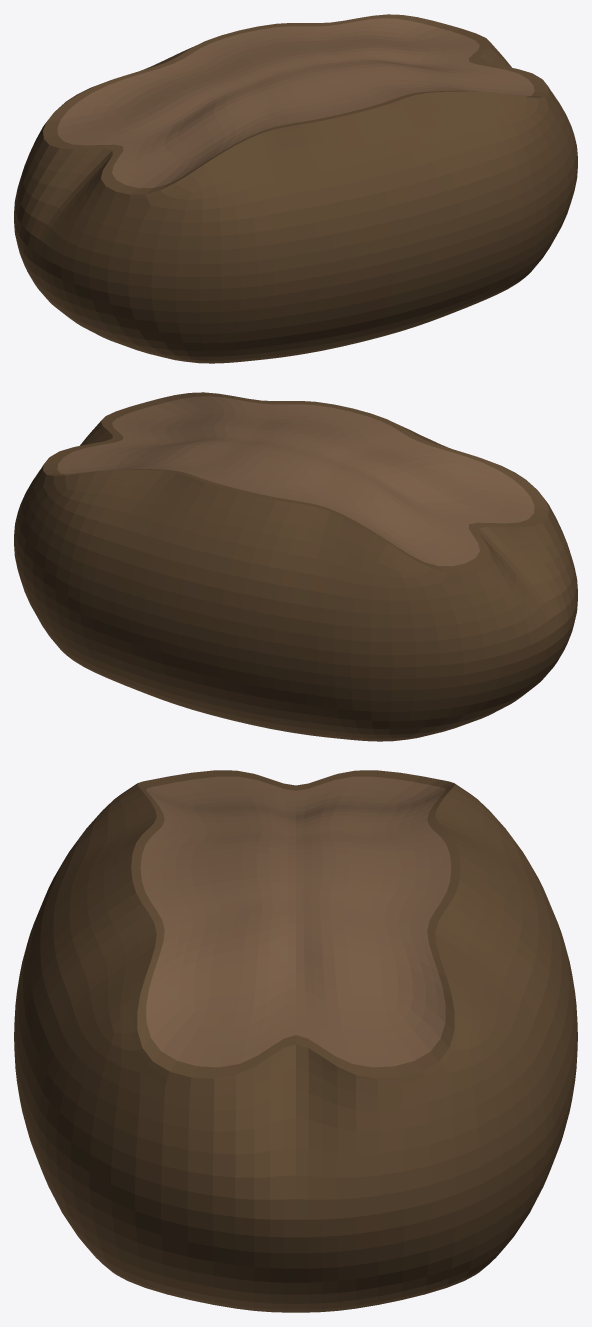
File: brötchen vollkorn.fbx
The picture shows the model from 3 angles, top to bottom: view 1: azimuth 30°, elevation 25°; view 2: azimuth 150°, elevation 25°; view 3: azimuth 270°, elevation 25°; orthographic projection. The views are drawn at different scales.
Parts seen in each view (by area): view 1: Cube; view 2: Cube; view 3: Cube.
Boxes of the visible parts, x1,y1,x2,y2 form: Cube: (14,14,577,363); Cube: (14,392,577,741); Cube: (14,770,577,1312).
Size of the model in its own units: 59.49 by 27.8 by 38.73.
